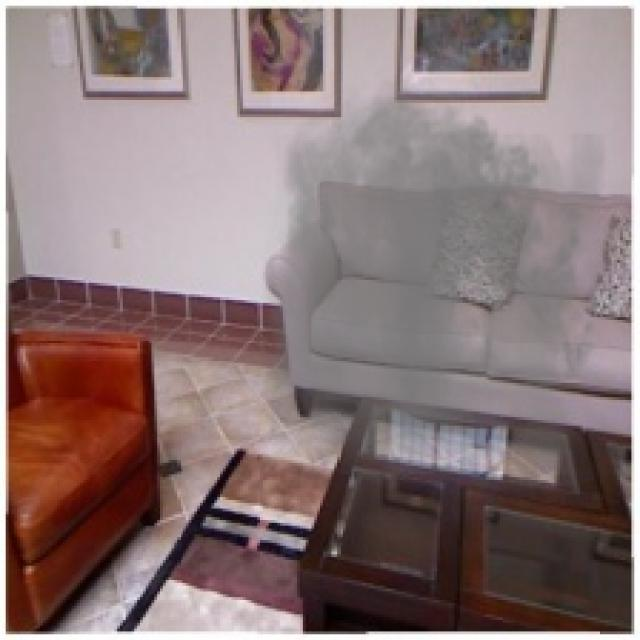smoke: (263, 66, 606, 474)
